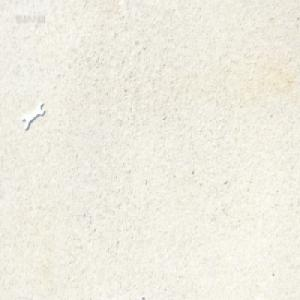Wrench: (22, 97, 46, 129)
